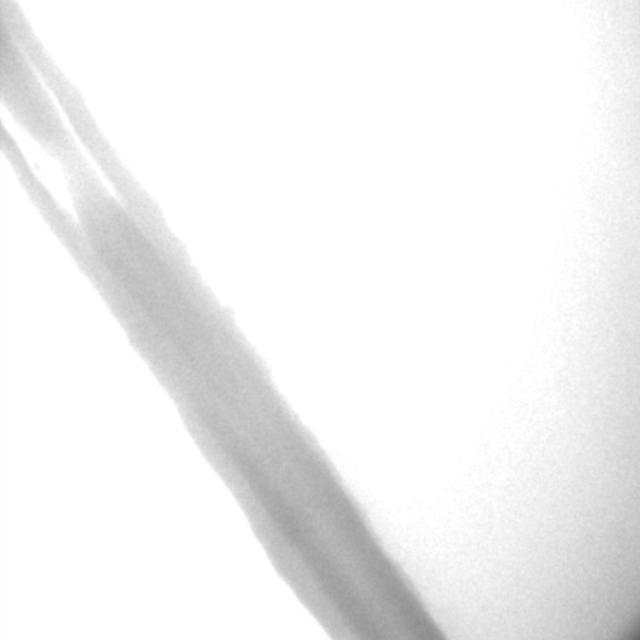unfused: (0, 40, 142, 237)
